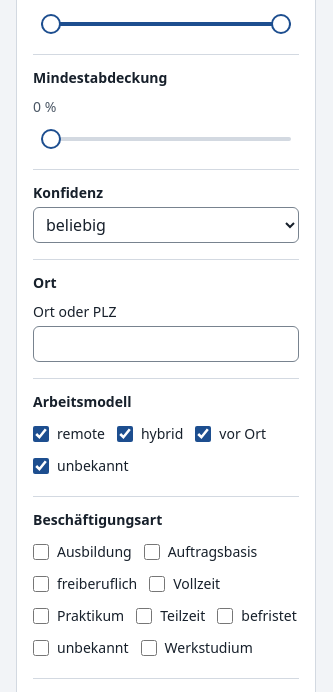
FilterPanel › the place picker shows the population in German
(page scrolled)
Type "Ber" into the dropdown labelled "Ort oder PLZ" at point(166, 344), box [33,326,299,362]
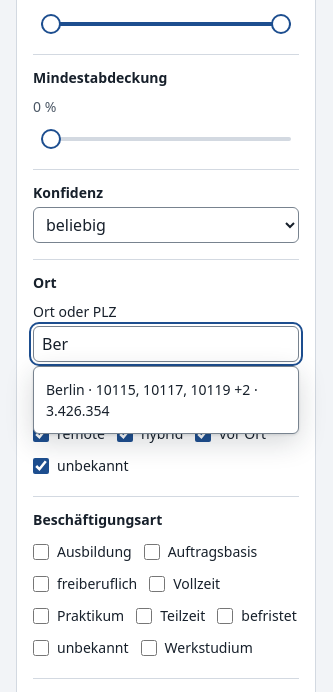
Now the option reads "Berlin · 10115, 10117, 10119 +2 · 3.426.354", box [46,380,258,420]
